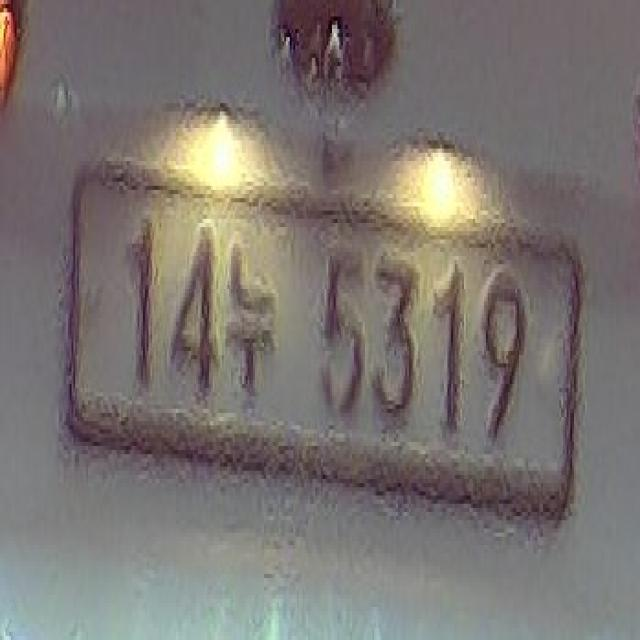1: (424, 260, 473, 446), (120, 194, 162, 405)
3: (367, 260, 422, 438)
4: (167, 210, 222, 413)
5: (314, 240, 366, 438)
9: (477, 260, 530, 450)
license_plate: (61, 137, 583, 558)
nu: (224, 231, 284, 421)
